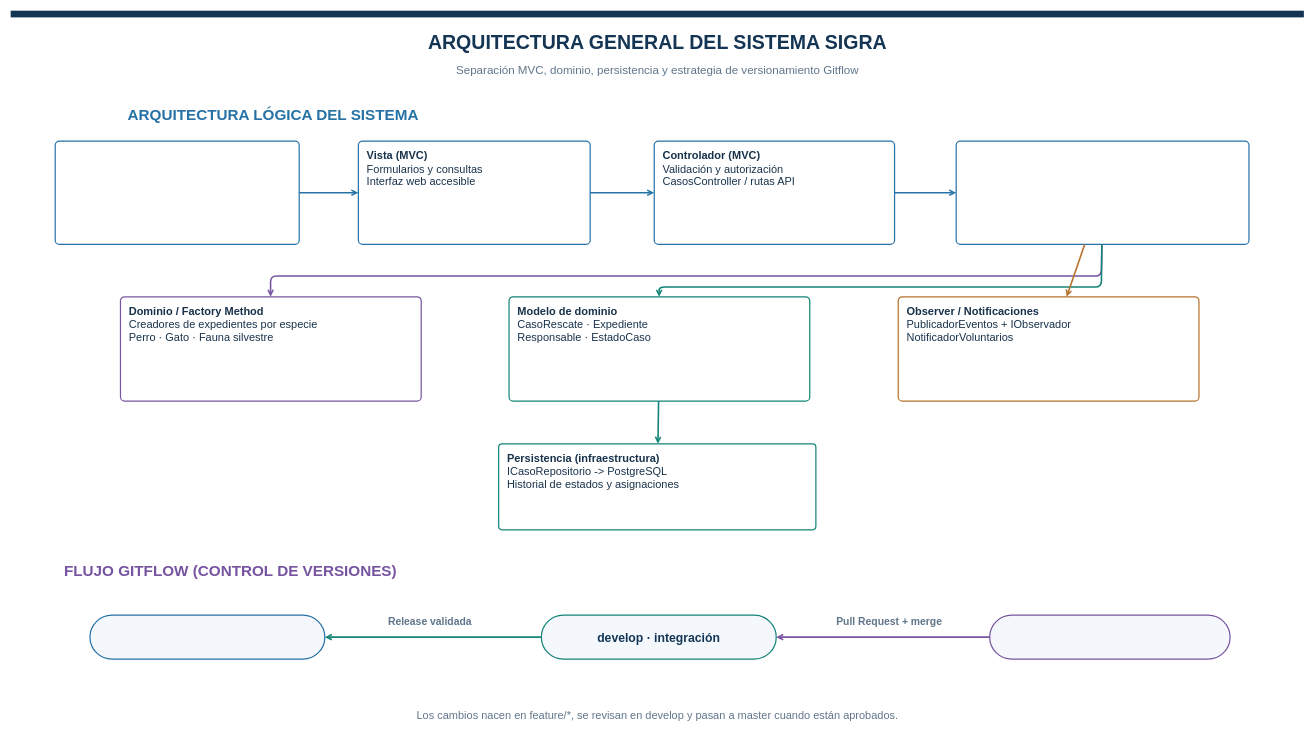
This 1314x733 diagram has some shape labels left out. The box of each missing label's shape, as (x1, y1, x2, y2) in pixels:
Actores / Usuarios Ciudadano · Voluntario Veterinario · Administrador: (54, 140, 300, 245)
feature/* · avance aislado: (989, 614, 1230, 659)
master · versión estable: (89, 614, 325, 659)
Servicios de aplicación GestorCasos (Singleton) Reglas y orquestación: (955, 140, 1249, 245)
